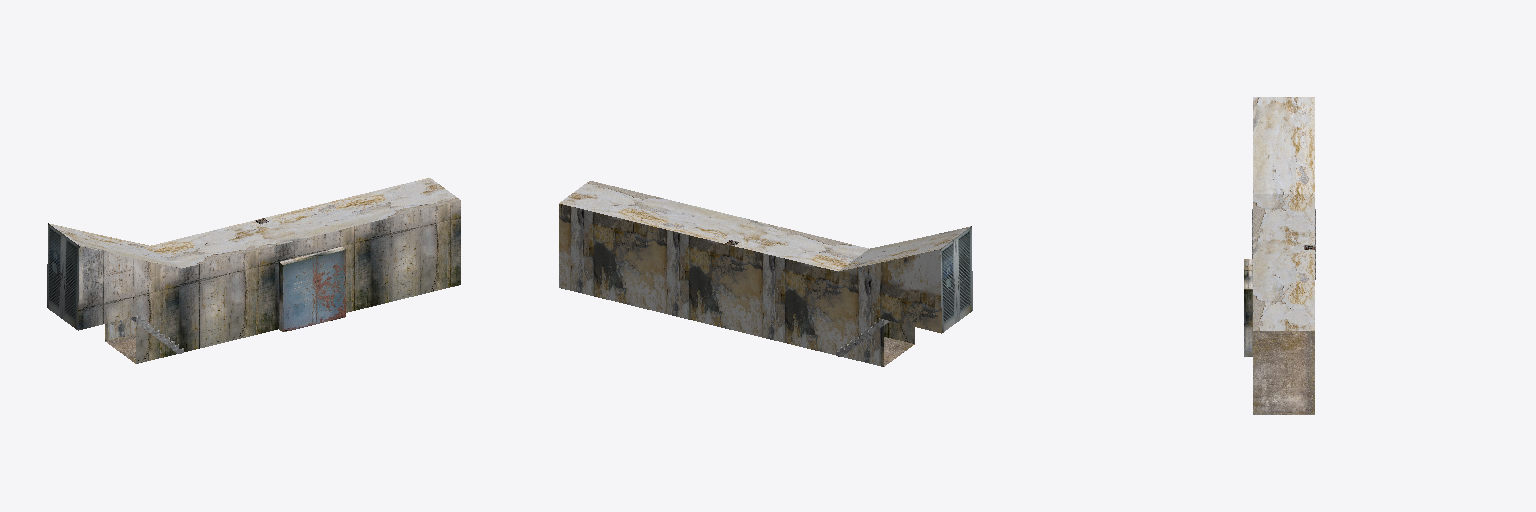
The picture shows the model from 3 angles: view 1: azimuth 30°, elevation 25°; view 2: azimuth 150°, elevation 25°; view 3: azimuth 270°, elevation 25°; orthographic projection.
Bounding box in the file's own units: 1.89 × 0.6223 × 0.3056.
7 materials, 7 textured.